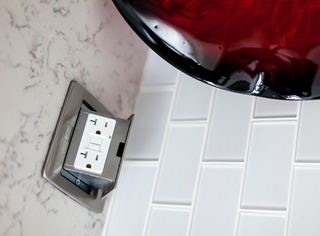outlet: (80, 149, 102, 170), (91, 116, 111, 135)
